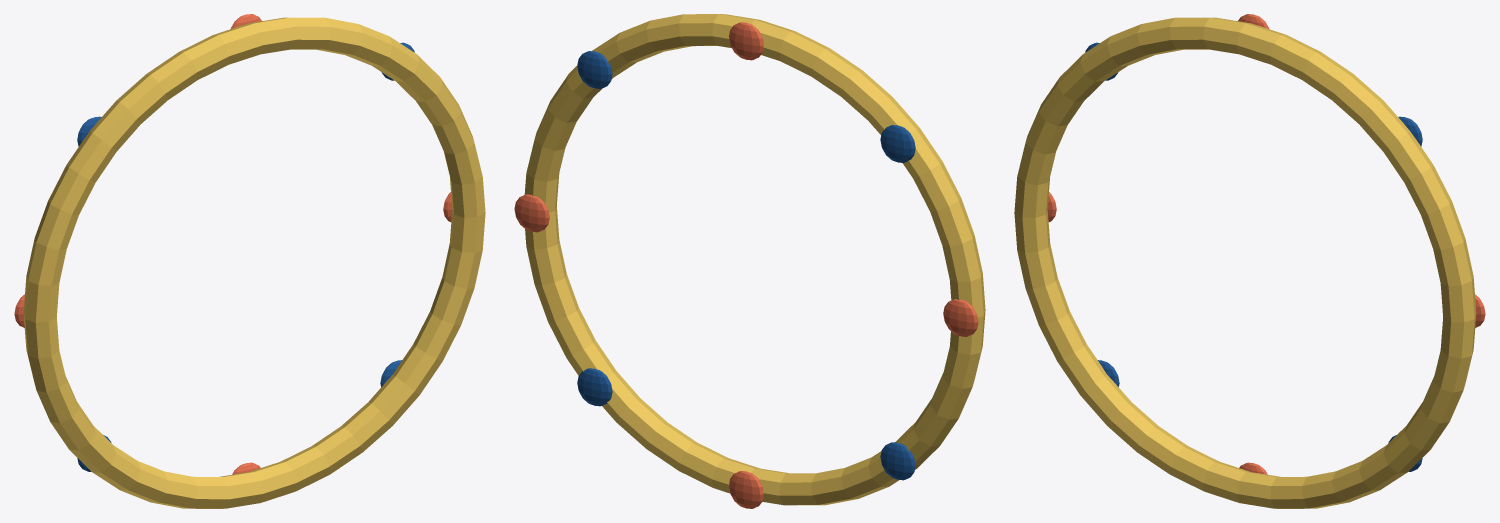
The model's file is flight-ring.glb.
3 views of the same model, side by side, from view 1: azimuth 30°, elevation 25°; view 2: azimuth 150°, elevation 25°; view 3: azimuth 330°, elevation 25° (orthographic).
Visible parts, largest first — view 1: Gold ring; view 2: Gold ring, Colored marker (×8); view 3: Gold ring.
Boxes of the visible parts, box(x1,y1,x2,y2) form: Gold ring: box(23, 17, 485, 508); Gold ring: box(524, 14, 985, 505); Colored marker (×8): box(514, 22, 978, 508); Gold ring: box(1014, 17, 1476, 508).
Bounding box in the file's own units: 9.96 × 9.96 × 0.74.
